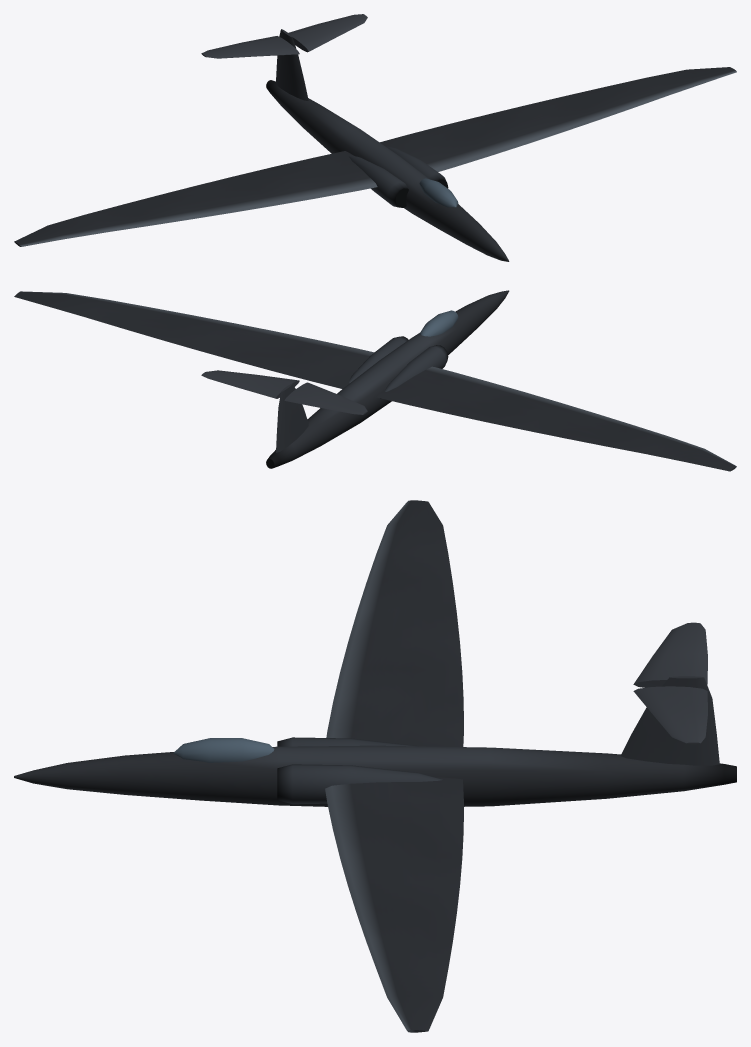
File: estratosferico.glb
3 renders of one model, top to bottom at view 1: azimuth 30°, elevation 25°; view 2: azimuth 150°, elevation 25°; view 3: azimuth 270°, elevation 25°, orthographic. The views are drawn at different scales.
Visible parts, largest first — view 1: Estratosférico • alas largas; view 2: Estratosférico • alas largas; view 3: Estratosférico • alas largas.
Boxes of the visible parts, x1,y1,x2,y2 form: Estratosférico • alas largas: (14, 14, 736, 261); Estratosférico • alas largas: (14, 290, 736, 471); Estratosférico • alas largas: (14, 500, 736, 1032).
Bounding box in the file's own units: 13 × 1.47 × 7.5.
